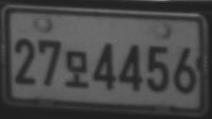2: (13, 38, 36, 84)
4: (119, 44, 143, 92), (93, 42, 116, 90)
5: (147, 45, 169, 92)
6: (172, 47, 196, 93)
7: (38, 39, 61, 86)
모: (65, 50, 88, 88)
